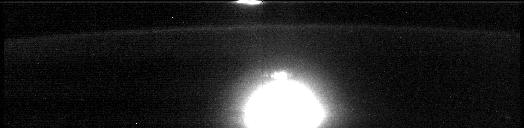positive: (262, 69, 293, 82)
